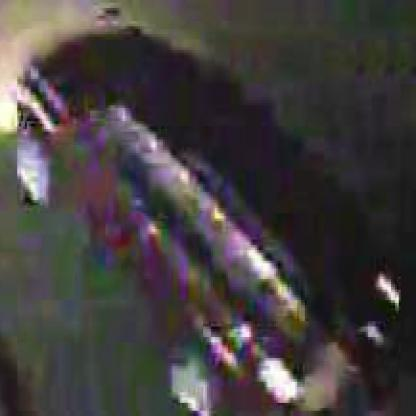car: (16, 30, 400, 414)
